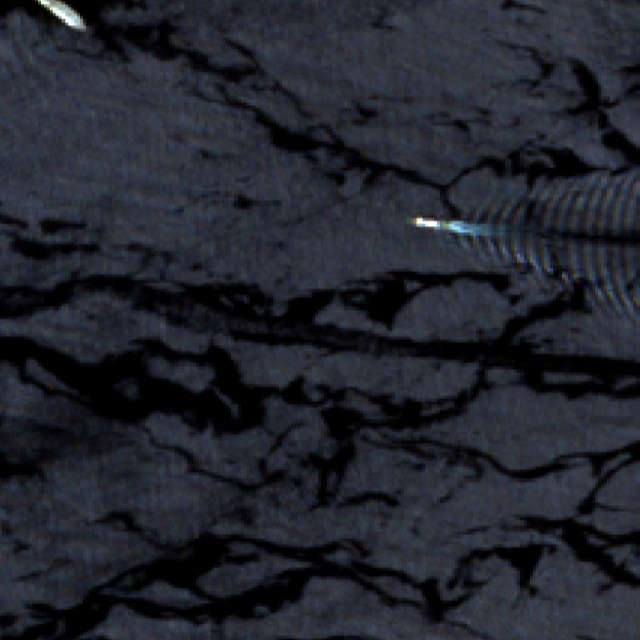wake: (406, 173, 626, 291)
